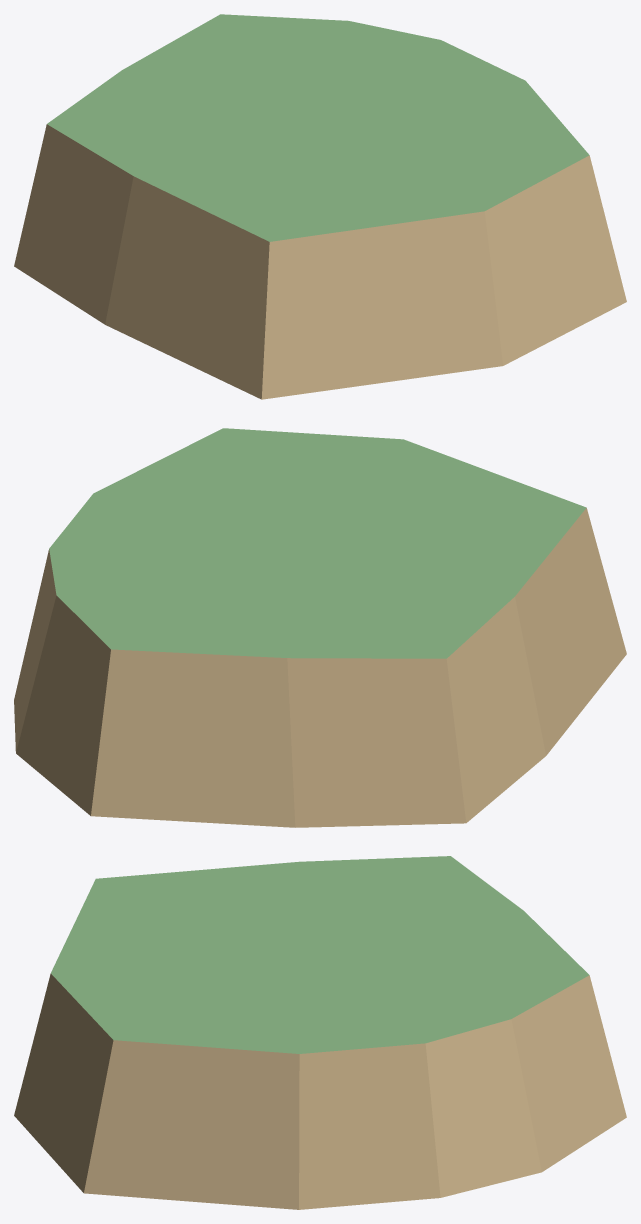
The model's file is LandIsland.fbx.
The picture shows the model from 3 angles, top to bottom: view 1: azimuth 30°, elevation 25°; view 2: azimuth 150°, elevation 25°; view 3: azimuth 270°, elevation 25°; orthographic projection. The views are drawn at different scales.
Parts seen in each view (by area): view 1: LandIsland; view 2: LandIsland; view 3: LandIsland.
Boxes of the visible parts, x1,y1,x2,y2 form: LandIsland: (14,14,626,399); LandIsland: (14,428,626,827); LandIsland: (14,856,626,1209).
Bounding box in the file's own units: 1767 × 523 × 2042.
